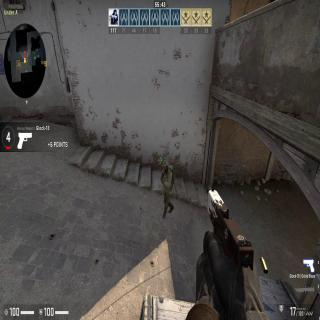CT-Body: (160, 160, 172, 212)
CT-Head: (162, 161, 169, 173)
